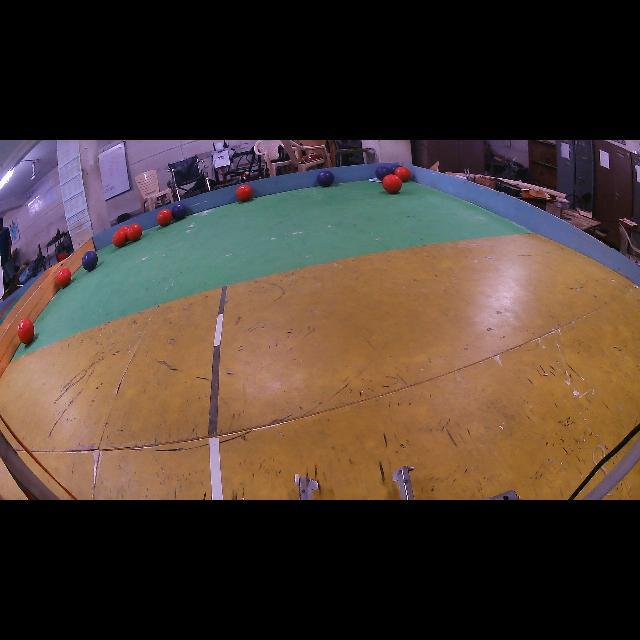P: (81, 251, 98, 271), (318, 170, 334, 188), (171, 204, 188, 220), (375, 166, 392, 181), (390, 165, 400, 173)
R: (18, 318, 35, 344), (382, 174, 402, 194), (56, 268, 71, 288), (126, 224, 142, 241), (156, 209, 172, 226), (394, 166, 411, 182), (236, 185, 252, 201), (112, 230, 126, 248), (120, 225, 129, 235)
